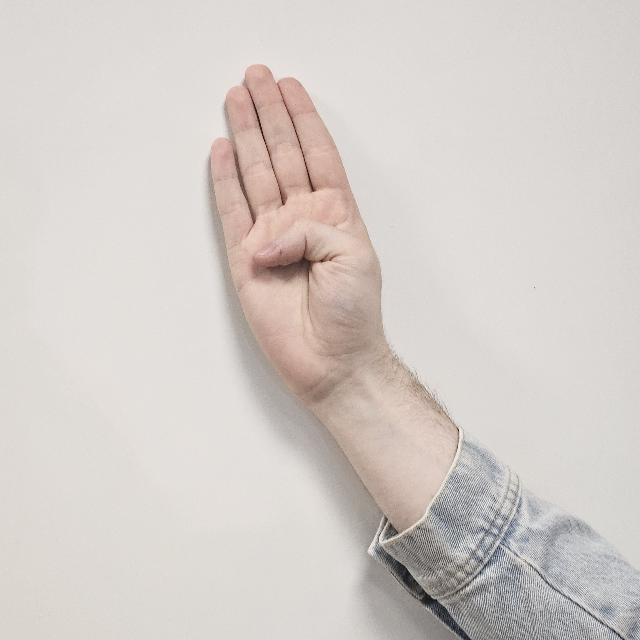Baixo: (204, 53, 390, 414)
